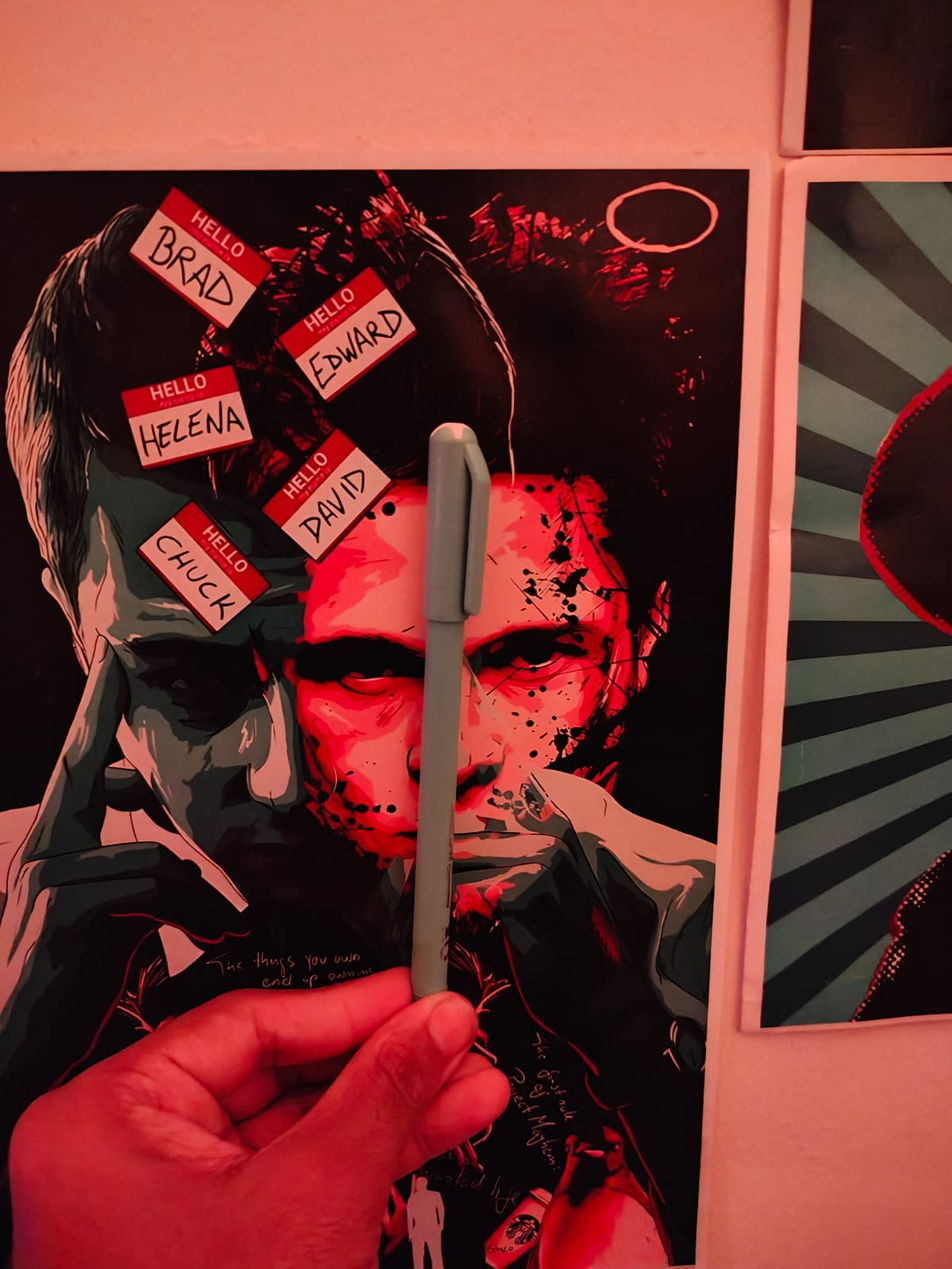pen: (379, 396, 511, 1023)
